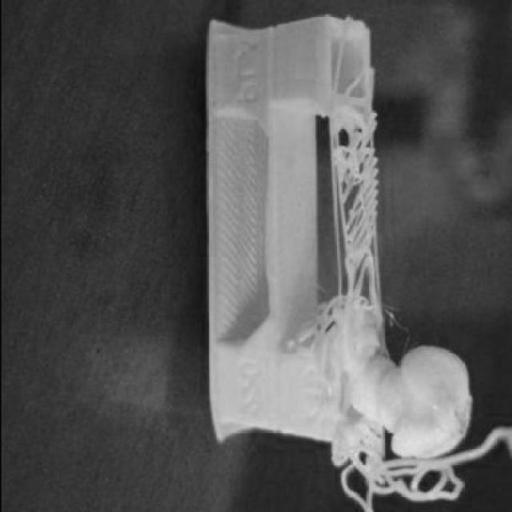spaghetti_and_stringing: (323, 413, 512, 510), (328, 41, 383, 323), (277, 300, 336, 354)
